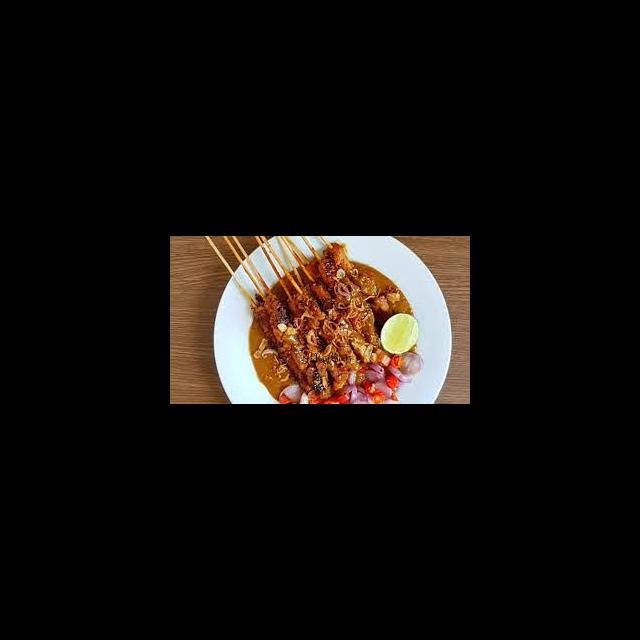food_waste: (280, 299, 393, 384)
